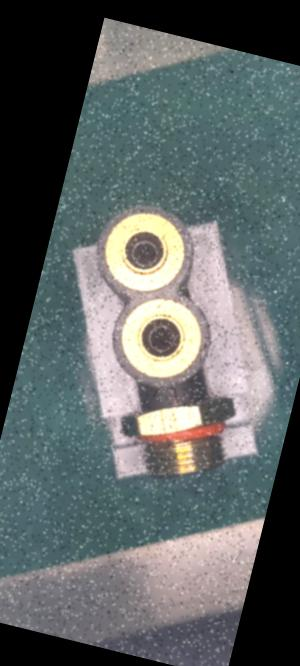craze: (166, 384, 183, 407)
